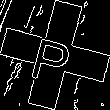P_N: (30, 26, 80, 84)
